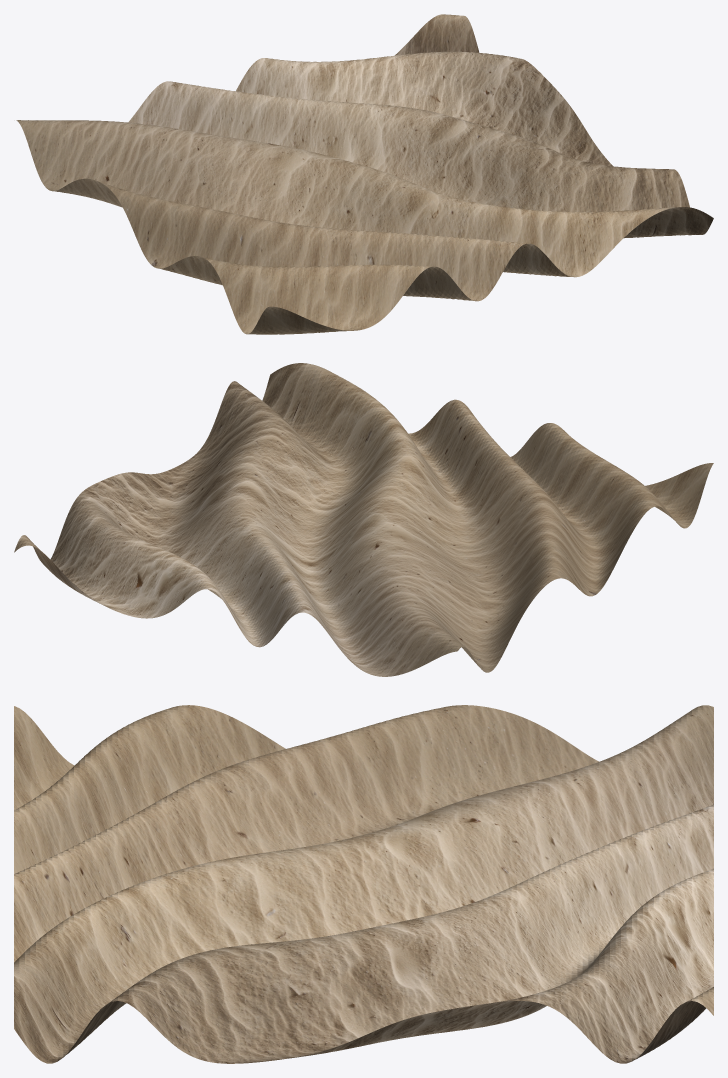
The model's file is tattoine.obj.
3 views of the same model, one above another, from view 1: azimuth 30°, elevation 25°; view 2: azimuth 150°, elevation 25°; view 3: azimuth 270°, elevation 25° (orthographic). The views are drawn at different scales.
Visible parts, largest first — view 1: Plane; view 2: Plane; view 3: Plane.
Boxes of the visible parts, bbox=[...] form: Plane: bbox=[16, 14, 713, 334]; Plane: bbox=[14, 363, 713, 676]; Plane: bbox=[14, 705, 713, 1063].
Bounding box in the file's own units: 20.16 × 2 × 20.16.
Materials: 1 (1 with a texture image).
